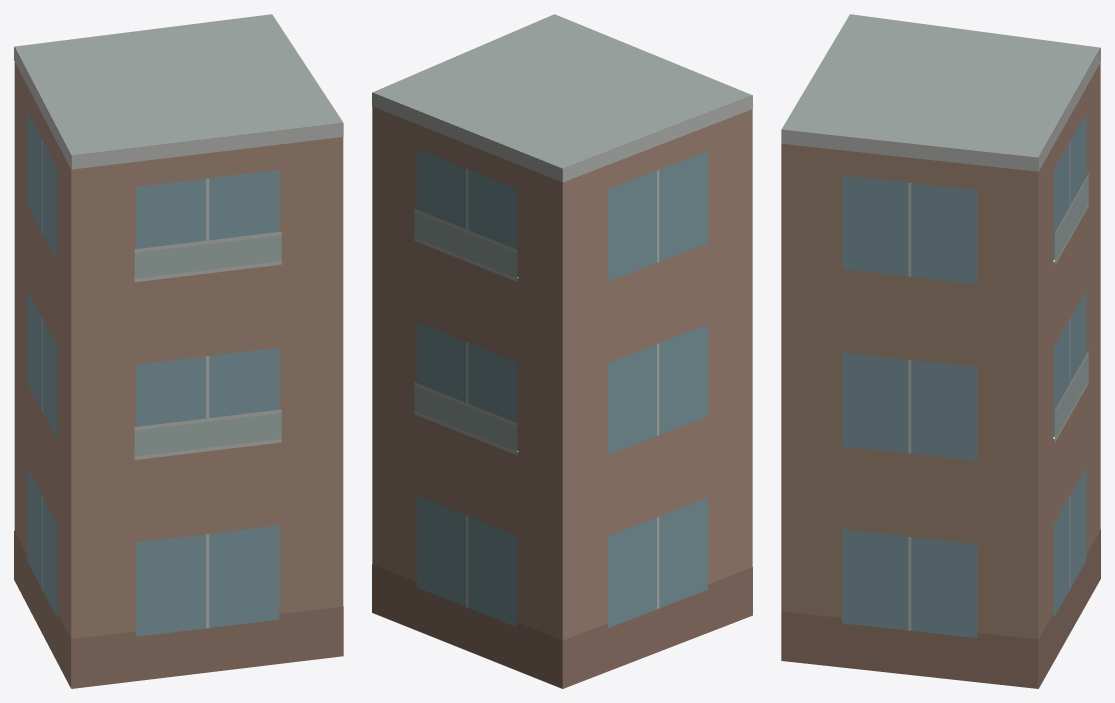
Rendered from survey-upis-32470609.glb.
The picture shows the model from 3 angles, left to right: view 1: azimuth 30°, elevation 25°; view 2: azimuth 150°, elevation 25°; view 3: azimuth 270°, elevation 25°; orthographic projection. The views are drawn at different scales.
Parts seen in each view (by area): view 1: survey-upis-32470609.tmp; view 2: survey-upis-32470609.tmp; view 3: survey-upis-32470609.tmp.
Boxes of the visible parts, box(x1,y1,x2,y2) form: survey-upis-32470609.tmp: box(14, 14, 343, 688); survey-upis-32470609.tmp: box(372, 14, 752, 688); survey-upis-32470609.tmp: box(781, 14, 1100, 688).
Bounding box in the file's own units: 5.31 × 9.15 × 5.
